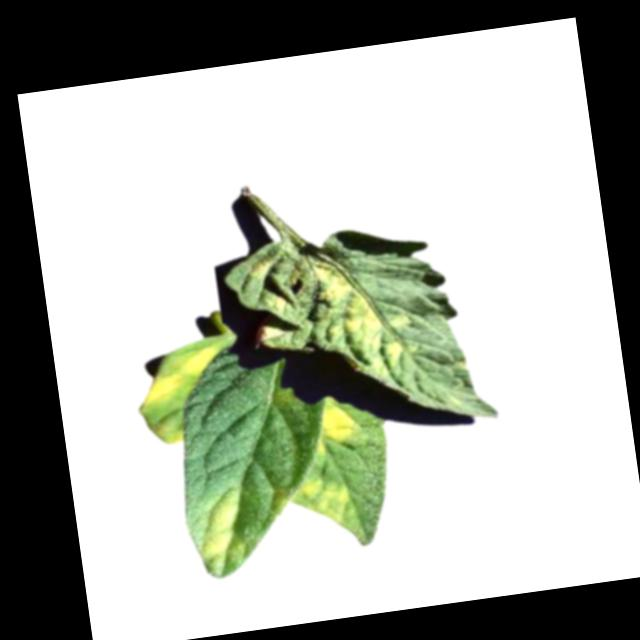Leaf_Mold: (302, 244, 416, 382), (284, 470, 369, 553), (131, 341, 226, 413), (188, 486, 252, 580), (306, 395, 364, 462)
